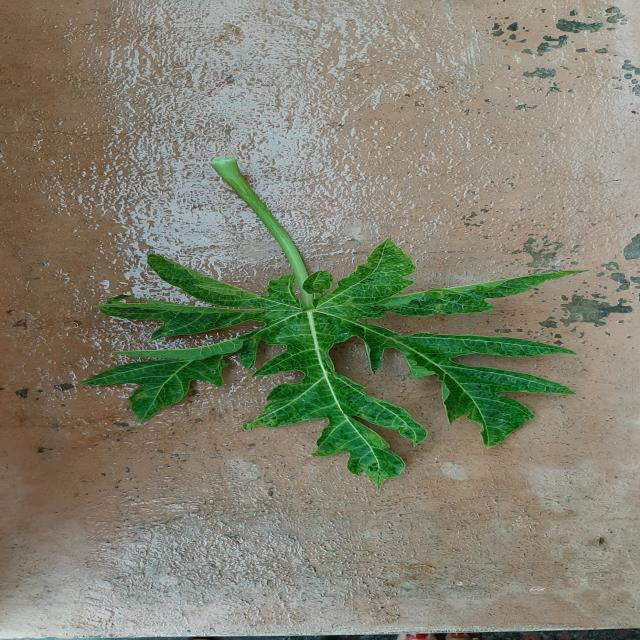papaya: (81, 240, 577, 482)
